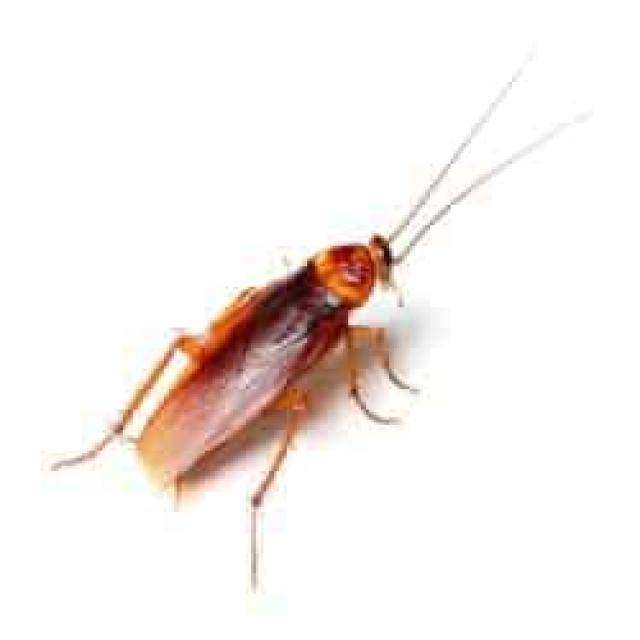Cockroach: (15, 213, 422, 535)
